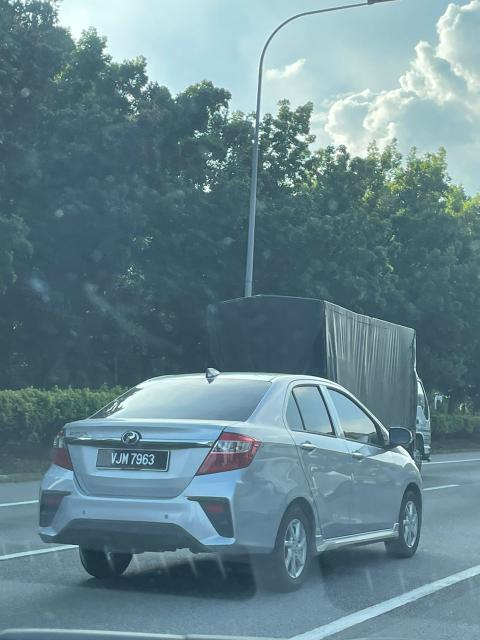License_Plate: (98, 445, 163, 473)
car: (39, 370, 427, 588), (203, 292, 444, 487)
